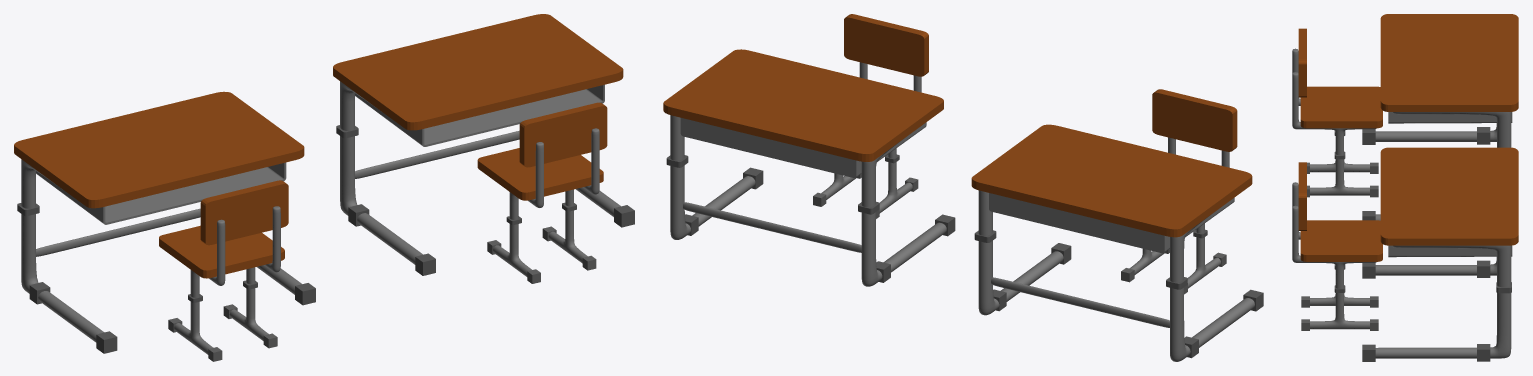
Rendered from Desk and chair2.fbx.
The picture shows the model from 3 angles, left to right: view 1: azimuth 30°, elevation 25°; view 2: azimuth 150°, elevation 25°; view 3: azimuth 270°, elevation 25°; orthographic projection. The views are drawn at different scales.
Visible parts, largest first — view 1: Cube.350; view 2: Cube.350; view 3: Cube.350.
Boxes of the visible parts, <box> form: Cube.350: <box>14,14,634,361</box>; Cube.350: <box>663,14,1263,361</box>; Cube.350: <box>1292,14,1518,361</box>.
Bounding box in the file's own units: 258 × 74.62 × 110.
